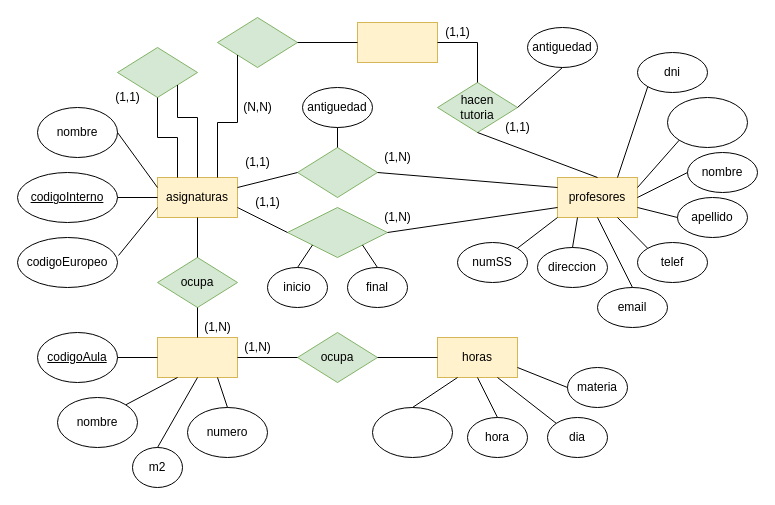
The diagram is 775 pixels wide and 505 high, and some of its shapes have lost their labels. The shapes that lost their labels are listed below. From the top down, each one's box as (x1, y1, x2, y2) in pixels, then its label:
(216, 16, 298, 68): tiene
(356, 22, 438, 62): ciclos
(116, 46, 198, 98): aprueba
(666, 96, 748, 148): codigoProfe
(296, 146, 378, 198): imparte
(286, 206, 388, 258): imparte sustituto
(156, 336, 238, 378): aulas
(372, 406, 452, 458): codigoHora
